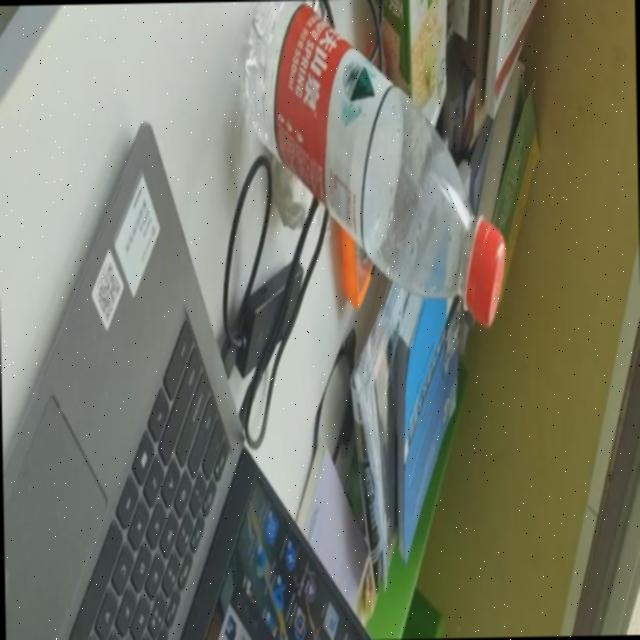bottle: (243, 0, 505, 330)
cap: (458, 218, 508, 324)
